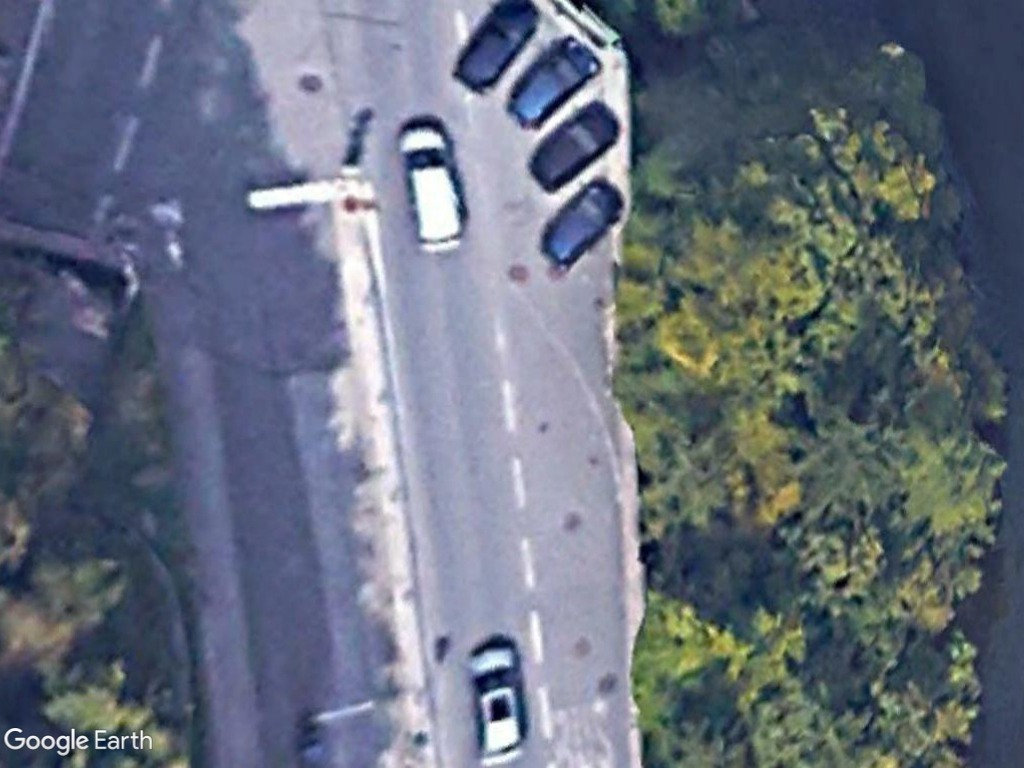car: (499, 29, 606, 137), (522, 90, 628, 195), (395, 118, 471, 256), (534, 167, 631, 274), (452, 0, 550, 99), (464, 635, 530, 768)
